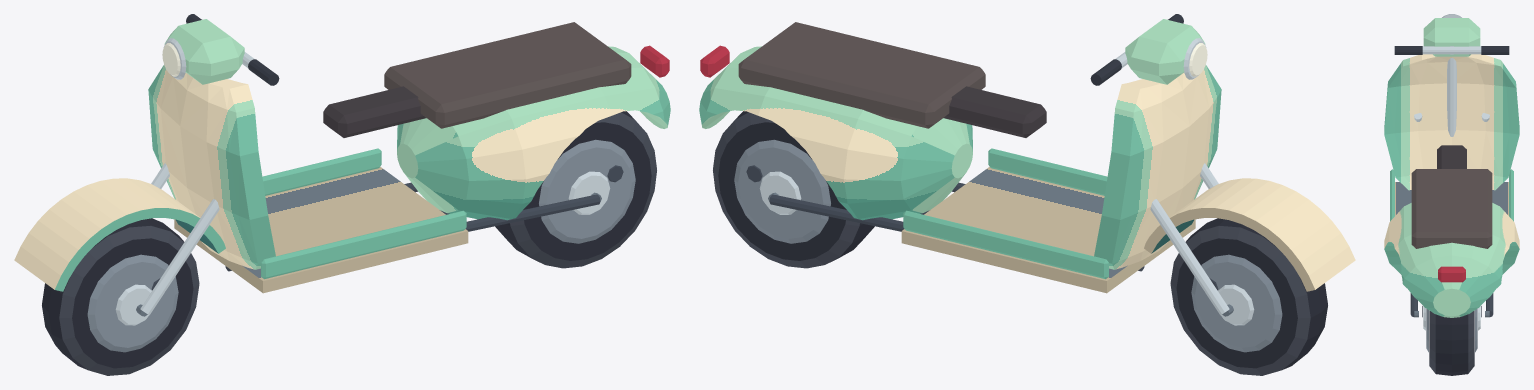
3 views of the same model, side by side, from view 1: azimuth 30°, elevation 25°; view 2: azimuth 150°, elevation 25°; view 3: azimuth 270°, elevation 25° (orthographic). The views are drawn at different scales.
Parts seen in each view (by area): view 1: Body_static, Wheel_F_tire_hub, Wheel_R_tire_hub; view 2: Body_static, Wheel_F_tire_hub, Wheel_R_tire_hub; view 3: Body_static, Wheel_R_tire_hub.
Part boxes in pixels (<box>): Body_static: <box>14,14,670,316</box>; Wheel_F_tire_hub: <box>42,218,199,375</box>; Wheel_R_tire_hub: <box>495,111,656,268</box>; Body_static: <box>699,14,1355,316</box>; Wheel_F_tire_hub: <box>1170,218,1327,375</box>; Wheel_R_tire_hub: <box>713,111,874,268</box>; Body_static: <box>1384,14,1519,317</box>; Wheel_R_tire_hub: <box>1422,306,1481,375</box>.
Bounding box in the file's own units: 46.78 × 22.7 × 12.52.
1 material, 1 textured.
